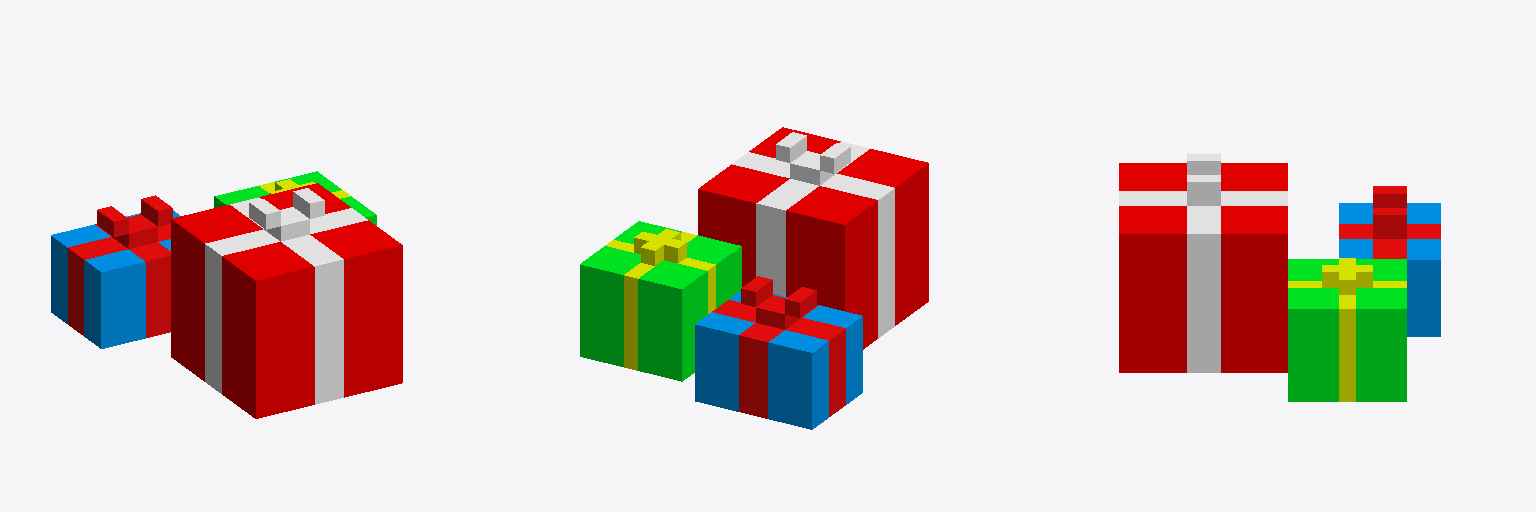
3 views of the same model, side by side, from view 1: azimuth 30°, elevation 25°; view 2: azimuth 150°, elevation 25°; view 3: azimuth 270°, elevation 25° (orthographic).
Visible parts, largest first — view 1: object 1; view 2: object 1; view 3: object 1.
Part boxes in pixels (bbox=[...]): object 1: bbox=[51, 171, 402, 418]; object 1: bbox=[580, 127, 928, 429]; object 1: bbox=[1119, 154, 1440, 401].
Bounding box in the file's own units: 1.7 × 1.1 × 1.9.
Materials: 1 (1 with a texture image).